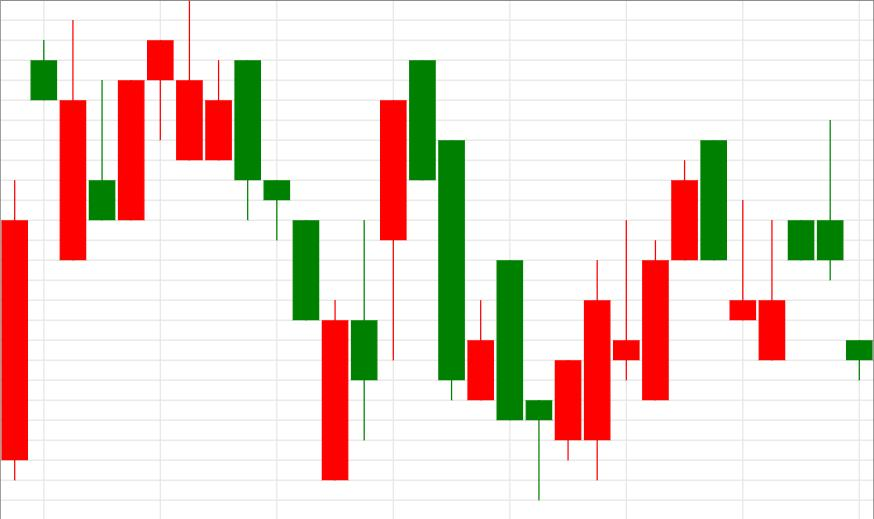bearish_engulfing_fall: (525, 140, 728, 501)
